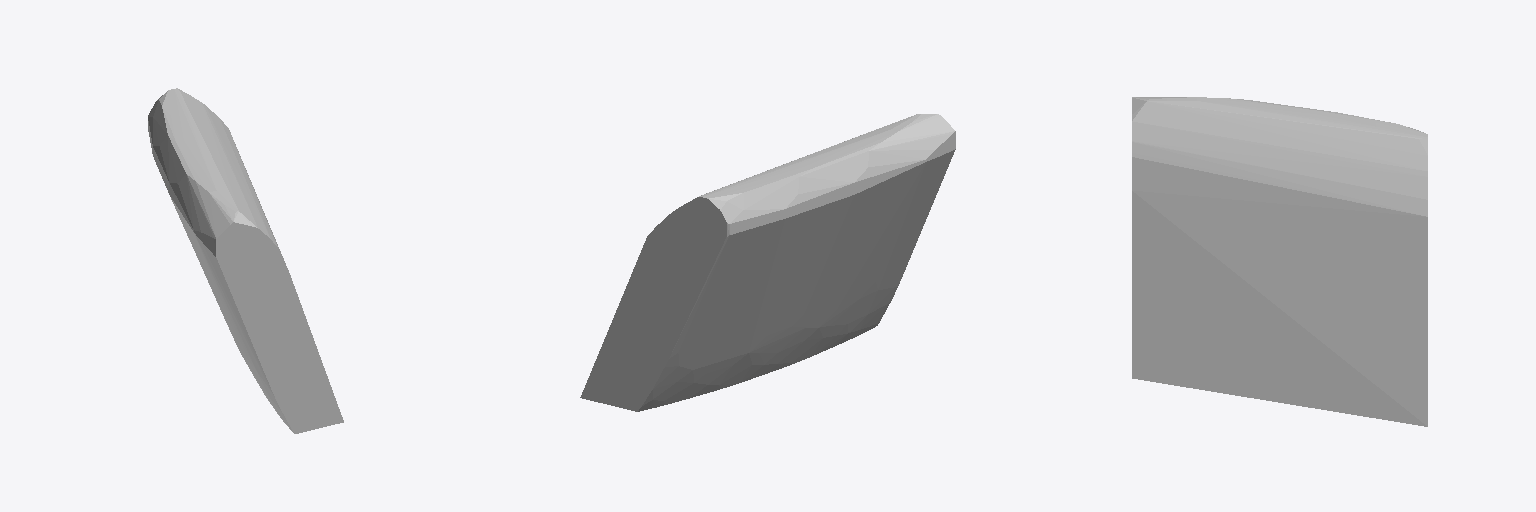
The model's file is pan_collision_11.obj.
The picture shows the model from 3 angles: view 1: azimuth 30°, elevation 25°; view 2: azimuth 150°, elevation 25°; view 3: azimuth 270°, elevation 25°; orthographic projection.
Bounding box in the file's own units: 0.0365 × 0.0355 × 0.0412.